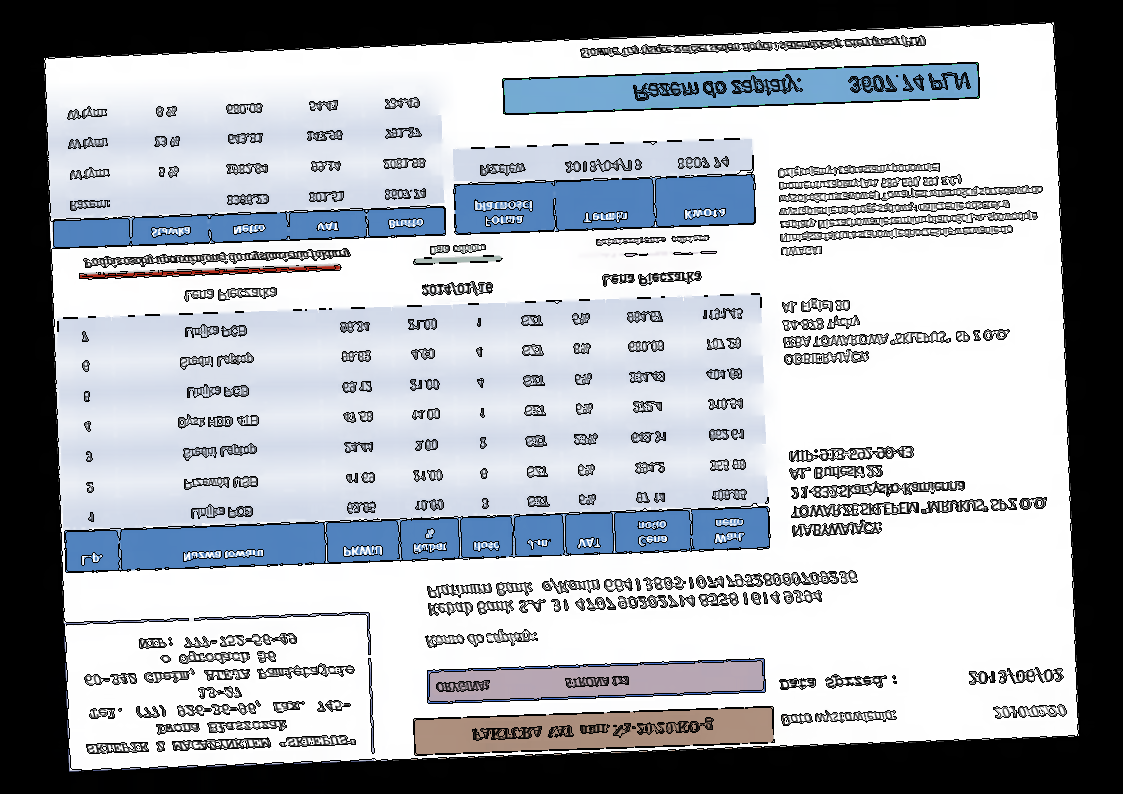Table: (55, 293, 772, 575), (46, 82, 446, 250), (451, 137, 758, 235)
TextBox: (80, 628, 360, 760), (774, 155, 1045, 259), (786, 437, 1051, 539), (425, 568, 861, 620), (779, 290, 1012, 369), (627, 68, 973, 104), (578, 33, 925, 62), (469, 715, 716, 745), (81, 245, 353, 271), (433, 672, 632, 696), (422, 627, 540, 651), (779, 671, 899, 694), (779, 709, 898, 729), (599, 269, 702, 290), (594, 233, 710, 250), (966, 667, 1064, 687), (182, 285, 279, 305), (419, 280, 495, 298), (992, 704, 1067, 721), (428, 241, 488, 258)
